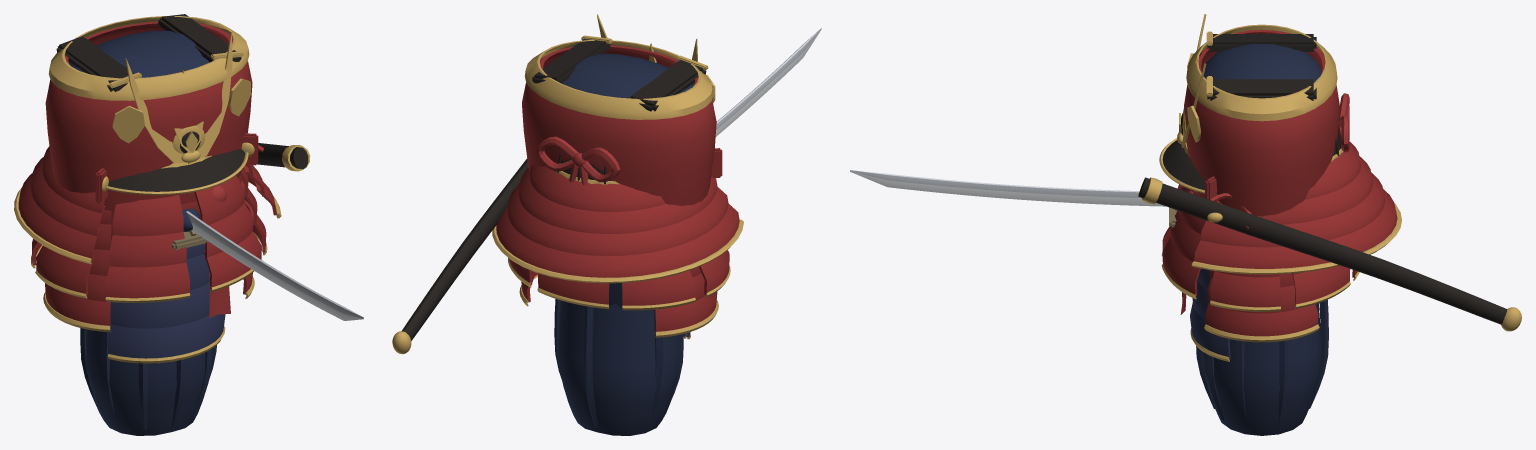
Rendered from web_samurai.glb.
3 renders of one model, left to right at view 1: azimuth 30°, elevation 25°; view 2: azimuth 150°, elevation 25°; view 3: azimuth 270°, elevation 25°, orthographic. The views are drawn at different scales.
Parts seen in each view (by area): view 1: part_chest, part_thighR, sub_kusazuri1__hips, part_head, part_thighL, sub_shikoro__head, sub_kusazuri0__hips, sub_sodeR__shoulderR, part_weapon, sub_kusazuri3__hips, sub_saya__hips, sub_kusazuri2__hips (+3 smaller); view 2: part_chest, sub_shikoro__head, part_thighR, part_thighL, sub_saya__hips, sub_kusazuri5__hips, sub_sodeR__shoulderR, sub_kusazuri6__hips, part_weapon, part_head, sub_kusazuri3__hips; view 3: part_chest, sub_shikoro__head, part_thighL, sub_saya__hips, part_weapon, sub_sodeL__shoulderL, sub_kusazuri2__hips, sub_kusazuri0__hips, part_head, sub_kusazuri4__hips, part_thighR.
Part boxes in pixels (bbox=[...]): part_chest: bbox=[45, 14, 252, 240]; part_thighR: bbox=[81, 298, 214, 435]; sub_kusazuri1__hips: bbox=[105, 195, 190, 302]; part_head: bbox=[95, 32, 258, 203]; part_thighL: bbox=[80, 243, 225, 431]; sub_shikoro__head: bbox=[14, 146, 281, 264]; sub_kusazuri0__hips: bbox=[194, 176, 262, 292]; sub_sodeR__shoulderR: bbox=[43, 210, 111, 332]; part_weapon: bbox=[186, 211, 363, 320]; sub_kusazuri3__hips: bbox=[35, 245, 93, 298]; sub_saya__hips: bbox=[256, 143, 310, 171]; sub_kusazuri2__hips: bbox=[240, 167, 267, 255]; part_chest: bbox=[522, 35, 716, 205]; sub_shikoro__head: bbox=[492, 165, 743, 283]; part_thighR: bbox=[554, 299, 690, 435]; part_thighL: bbox=[554, 299, 686, 432]; sub_saya__hips: bbox=[392, 158, 528, 354]; sub_kusazuri5__hips: bbox=[622, 270, 695, 310]; sub_sodeR__shoulderR: bbox=[655, 267, 718, 337]; sub_kusazuri6__hips: bbox=[537, 273, 609, 309]; part_weapon: bbox=[715, 28, 821, 136]; part_head: bbox=[556, 14, 722, 184]; sub_kusazuri3__hips: bbox=[699, 250, 730, 297]; part_chest: bbox=[1179, 24, 1349, 216]; sub_shikoro__head: bbox=[1192, 141, 1401, 274]; part_thighL: bbox=[1190, 268, 1328, 435]; sub_saya__hips: bbox=[1138, 177, 1521, 331]; part_weapon: bbox=[850, 170, 1166, 206]; sub_sodeL__shoulderL: bbox=[1204, 270, 1319, 342]; sub_kusazuri2__hips: bbox=[1210, 271, 1280, 311]; sub_kusazuri0__hips: bbox=[1161, 187, 1205, 299]; part_head: bbox=[1159, 14, 1343, 202]; sub_kusazuri4__hips: bbox=[1292, 265, 1350, 308]; part_thighR: bbox=[1190, 302, 1320, 427].
Bounding box in the file's own units: 0.4794 × 0.8018 × 1.29.
